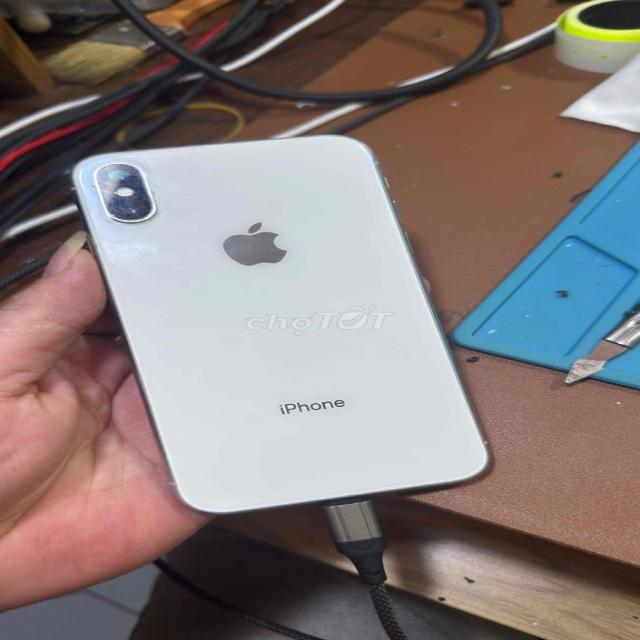gen_x_xs: (72, 135, 511, 513)
